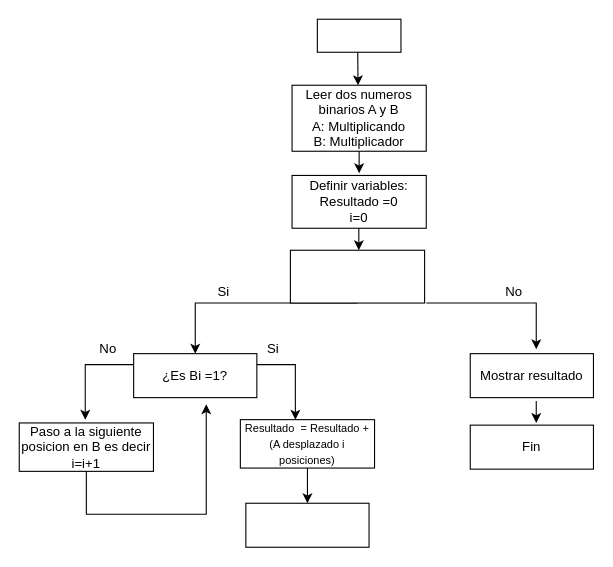
The diagram is 613 pixels wide and 567 high, and some of its shapes have lost their labels. Each missing label, with the box of its shape:
Es Bi < Tamaño de B?: (289, 249, 425, 303)
INICIO: (316, 18, 401, 52)
Repetir condicional: (245, 502, 369, 547)
